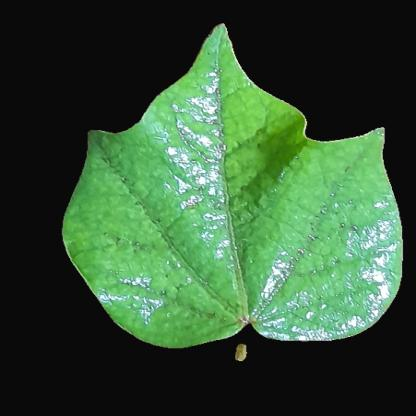healthy: (151, 126, 297, 328), (304, 179, 398, 317), (86, 163, 166, 271), (198, 67, 262, 123)
